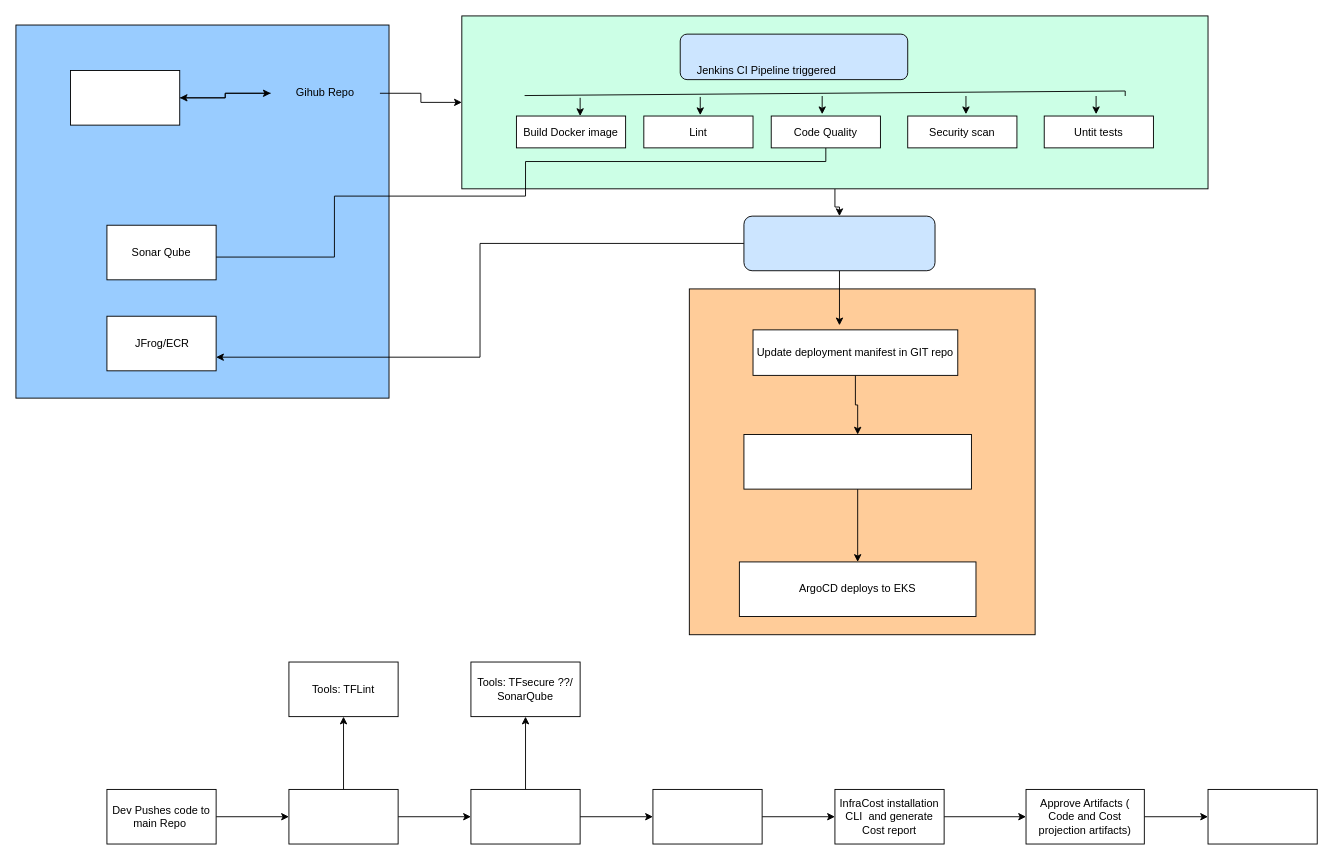
Image size: 1333x860. Some labels were removed from this diagram. Each missing label, with the centre of its shape:
Argo CD watches Git Repo: [857,461]
Dev Pushes the code: [125,97]
Lint the code and check for errors: [343,816]
Push it to JFROG Artifactory: [839,243]
Security and code Qulaity: [525,816]
TF apply and commit: [1262,816]
TF Plan and update / generate artifacts in GH: [707,816]
